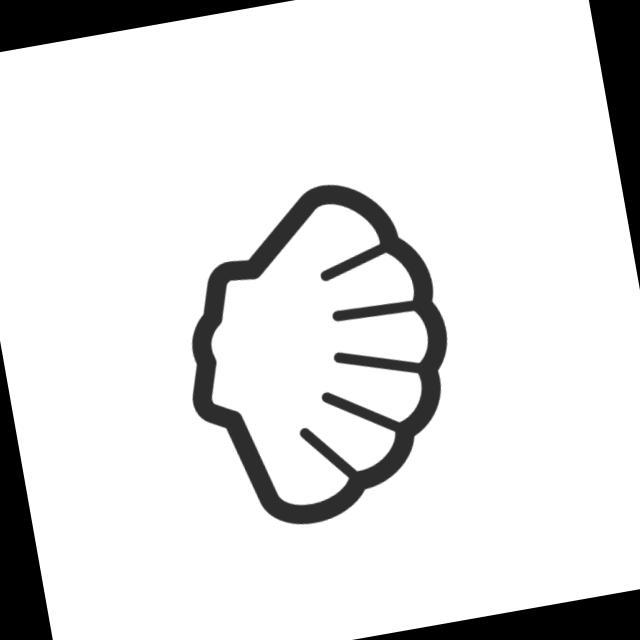shell: (151, 160, 483, 547)
